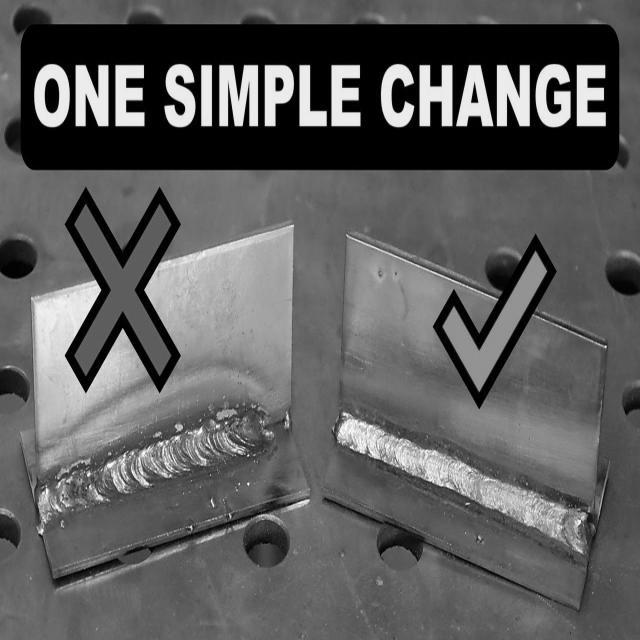Bad Weld: (36, 406, 266, 522)
Good Weld: (330, 404, 486, 498), (486, 476, 590, 552)
